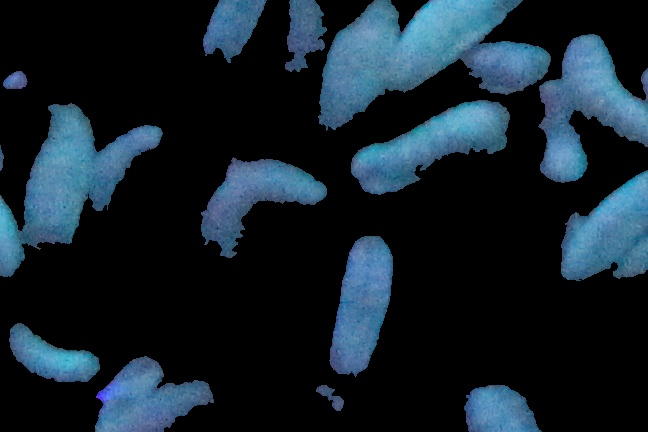larvae: (194, 158, 323, 260), (371, 109, 508, 186), (22, 105, 94, 248), (332, 237, 402, 382), (563, 29, 648, 144), (327, 7, 394, 135), (568, 183, 648, 285), (416, 1, 532, 56), (97, 123, 158, 216), (194, 1, 276, 67), (11, 332, 99, 379), (532, 103, 583, 175), (465, 44, 550, 84), (290, 1, 320, 98)
